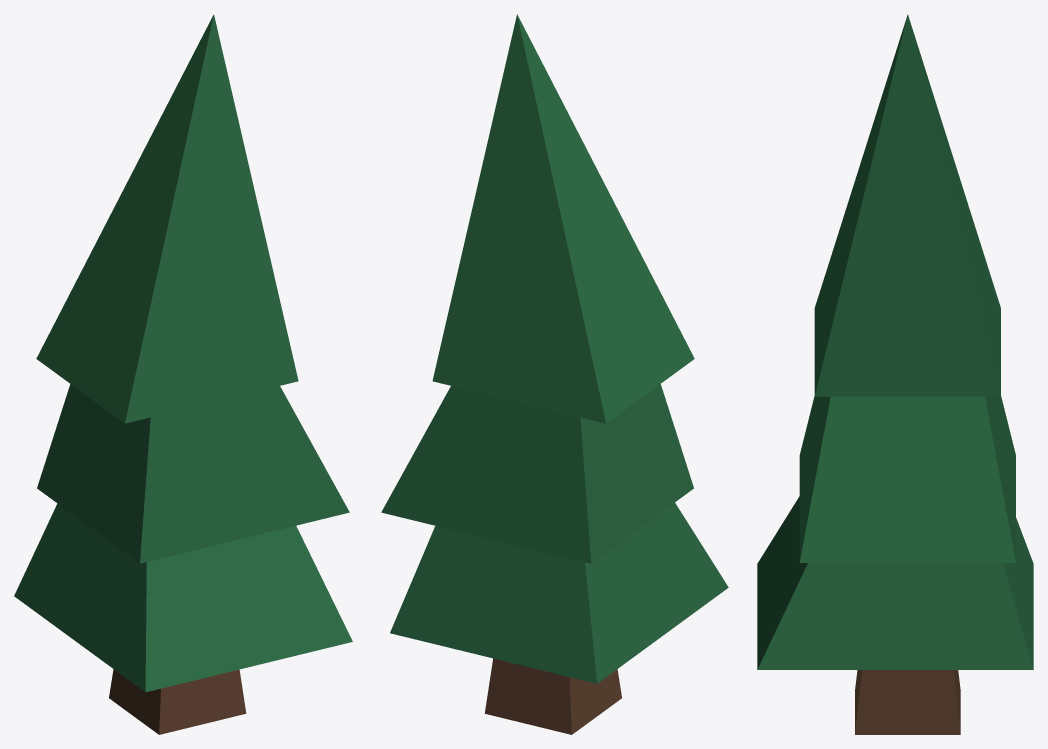
The model's file is tree_pineSmallC.glb.
3 renders of one model, left to right at view 1: azimuth 30°, elevation 25°; view 2: azimuth 150°, elevation 25°; view 3: azimuth 270°, elevation 25°, orthographic. The views are drawn at different scales.
Parts seen in each view (by area): view 1: tree_pineSmallC; view 2: tree_pineSmallC; view 3: tree_pineSmallC.
Part boxes in pixels (box(x1,y1,x2,y2)): tree_pineSmallC: box(14, 14, 352, 734); tree_pineSmallC: box(381, 14, 728, 734); tree_pineSmallC: box(757, 14, 1033, 734).
Bounding box in the file's own units: 0.3863 × 1.12 × 0.3919.
